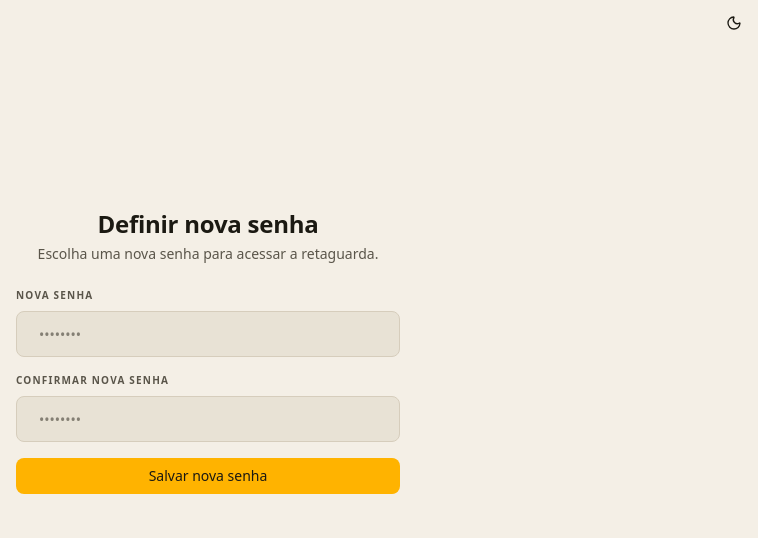
Scenario: RedefinirSenhaPage › bloqueia o envio quando as senhas não coincidem, sem chamar updateUser
The image size is (758, 538).
Expected: the heading "Definir nova senha" is shown, [97,207,318,240]
Type "senha123" into the password field labelled "Nova senha".
click(213, 334); type("senha123")  # box [39,312,387,356]
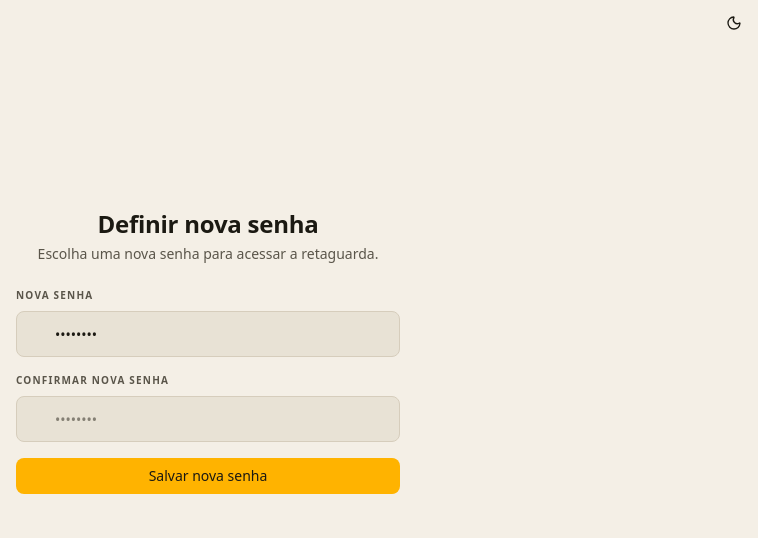
Type "outraSenha" into the password field labelled "Confirmar nova senha".
click(221, 419); type("outraSenha")  # box [55,397,387,441]
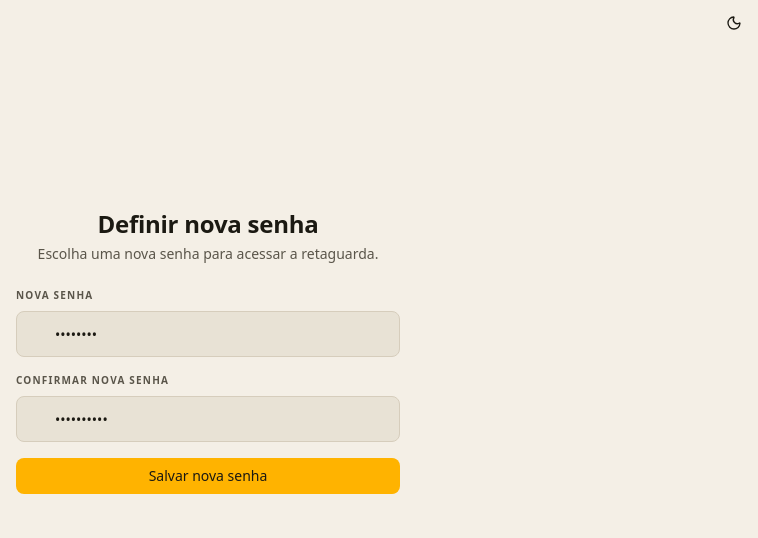
Click the button "Salvar nova senha".
click(208, 476)  # box [16,458,400,494]
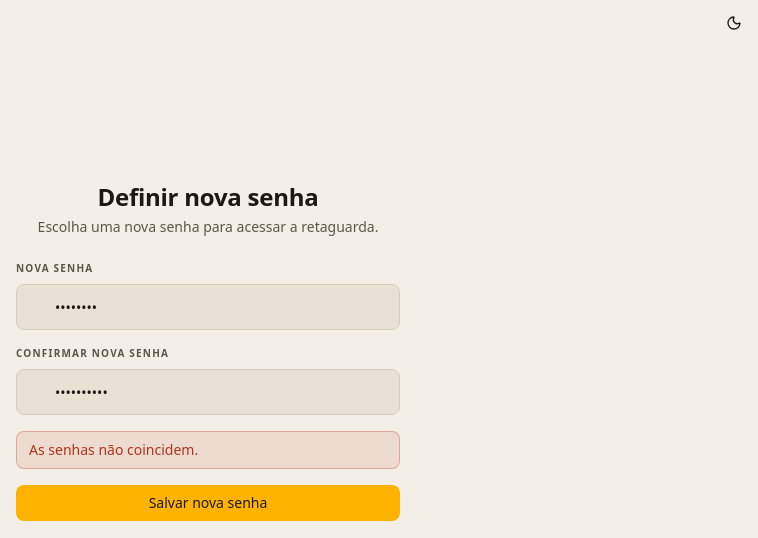
Expected: the text "As senhas não coincidem." is shown, [16,431,400,469]
